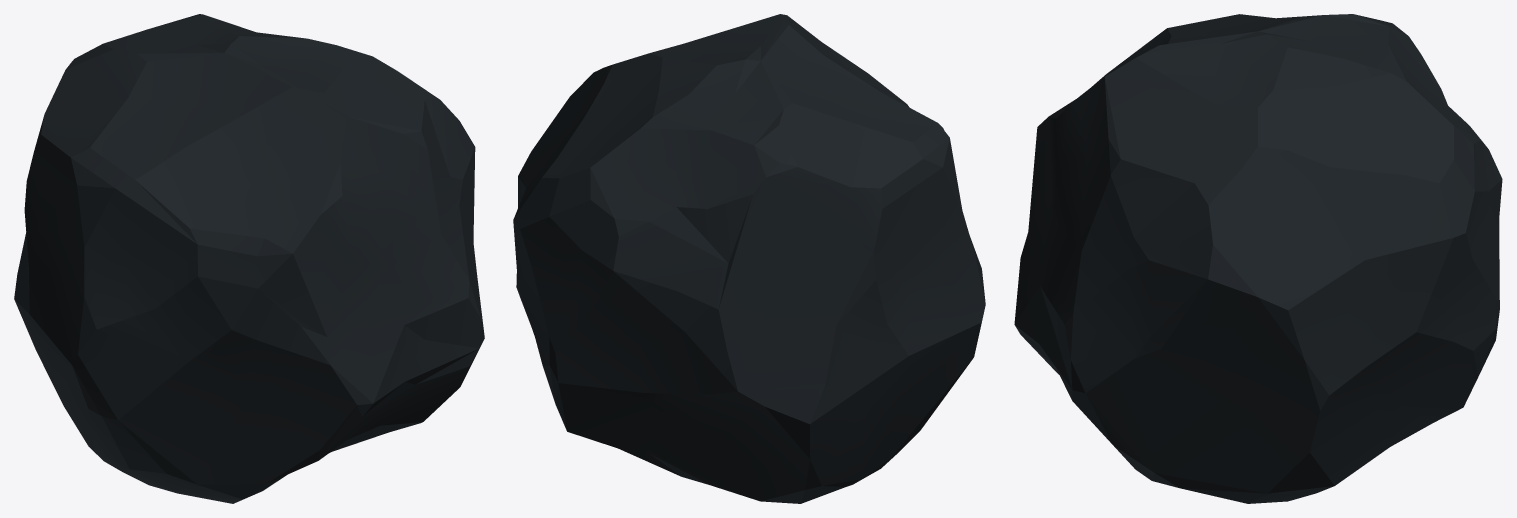
File: Asteroid_m_25.FBX
The picture shows the model from 3 angles, left to right: view 1: azimuth 30°, elevation 25°; view 2: azimuth 150°, elevation 25°; view 3: azimuth 270°, elevation 25°; orthographic projection. The views are drawn at different scales.
Visible parts, largest first — view 1: Asteroid_m_25; view 2: Asteroid_m_25; view 3: Asteroid_m_25.
Part boxes in pixels (<box>): Asteroid_m_25: <box>14,14,484,503</box>; Asteroid_m_25: <box>513,14,985,503</box>; Asteroid_m_25: <box>1014,14,1502,503</box>.
Size of the model in its own units: 937 by 922 by 926.
